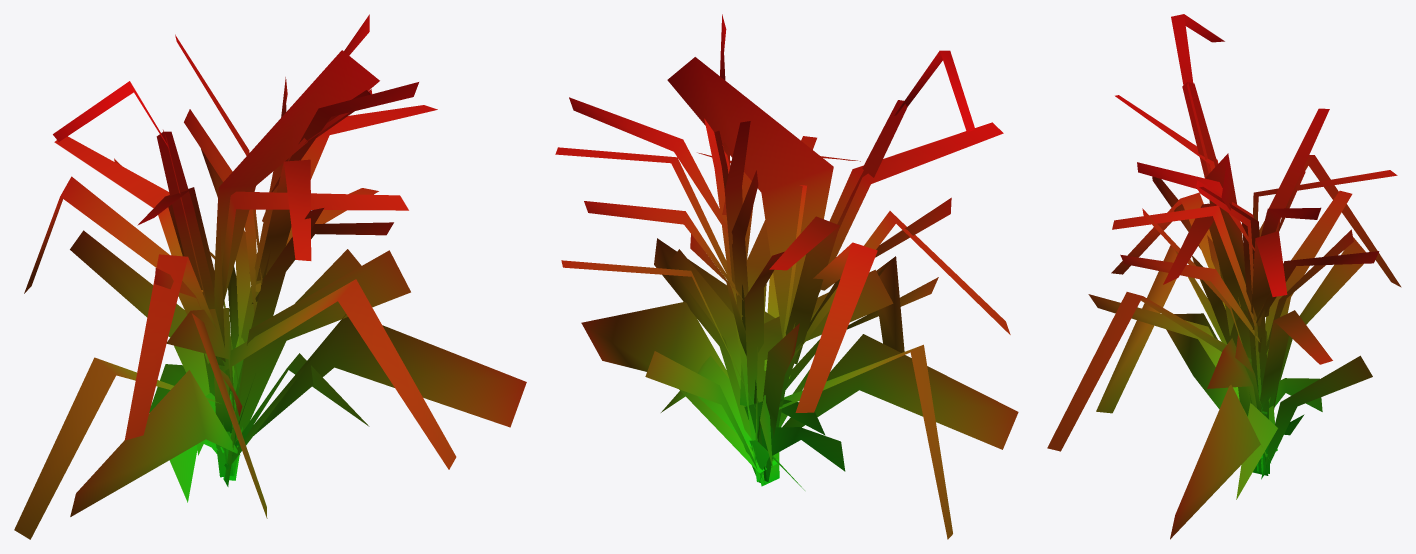
File: Var11_LOD3.fbx
3 views of the same model, side by side, from view 1: azimuth 30°, elevation 25°; view 2: azimuth 150°, elevation 25°; view 3: azimuth 270°, elevation 25° (orthographic). The views are drawn at different scales.
Parts seen in each view (by area): view 1: _78fe_Var11_LOD3; view 2: _78fe_Var11_LOD3; view 3: _78fe_Var11_LOD3.
Boxes of the visible parts, x1,y1,x2,y2 form: _78fe_Var11_LOD3: (14,14,526,539); _78fe_Var11_LOD3: (555,14,1018,539); _78fe_Var11_LOD3: (1047,14,1401,539).
Bounding box in the file's own units: 29.06 × 28.67 × 22.56.
